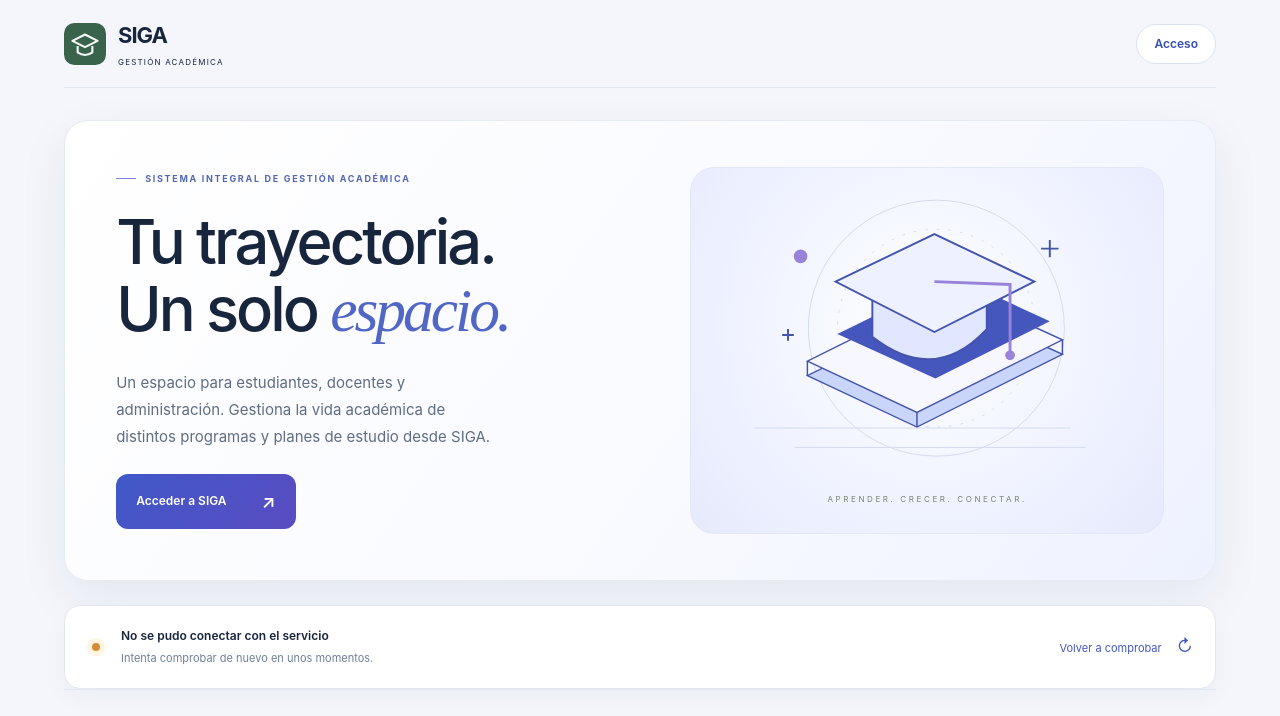
Portal y acceso › permite recuperar una falla de red al reintentar
expect the heading "No se pudo conectar con el servicio" is shown: met, box [121,628,329,643]
Click the button "Volver a comprobar ↻": (1119, 647) [1046,624,1193,670]
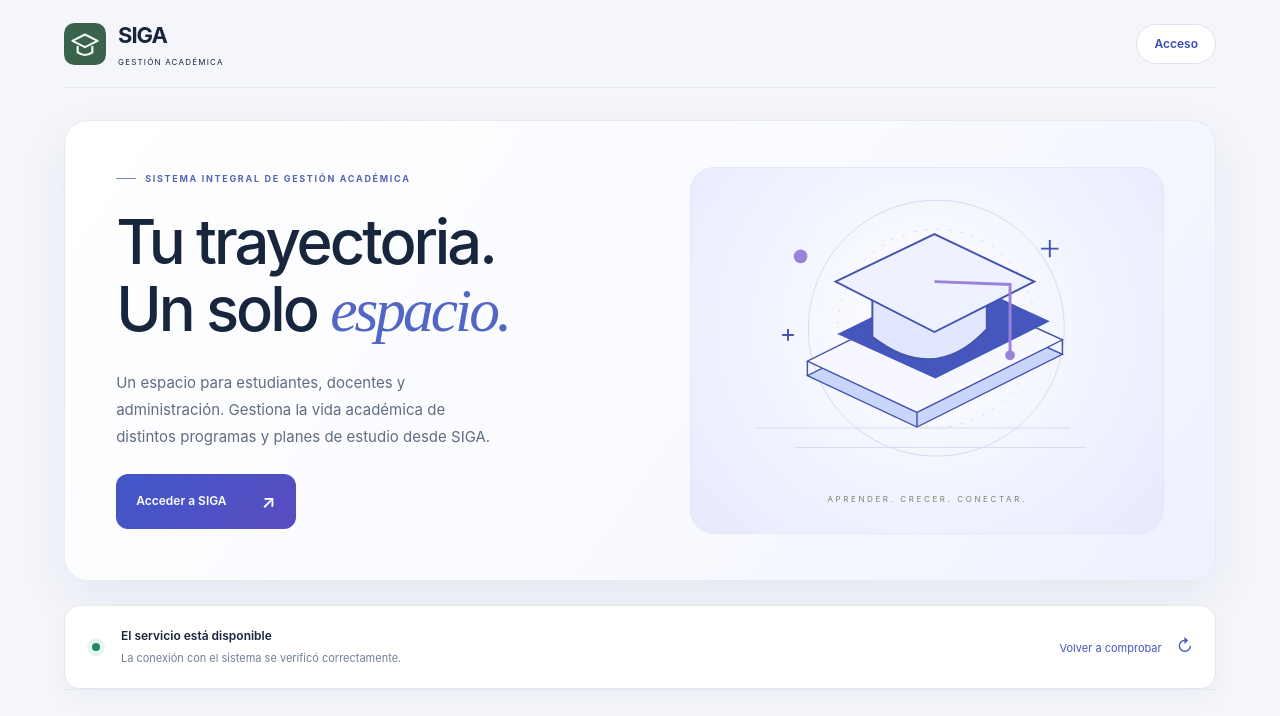
expect the heading "El servicio está disponible" is shown: met, box [121,628,272,643]
